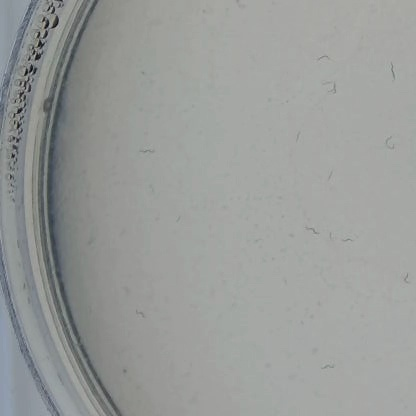worm: (134, 143, 159, 158), (321, 78, 340, 97), (389, 59, 402, 85), (381, 136, 397, 156), (303, 222, 320, 239), (315, 50, 333, 66), (292, 128, 306, 147), (399, 270, 412, 290), (129, 308, 150, 319), (120, 284, 140, 295), (321, 359, 336, 373), (325, 166, 336, 185), (341, 235, 359, 244), (172, 214, 183, 226), (235, 0, 246, 10), (328, 229, 335, 244), (149, 182, 157, 193)
